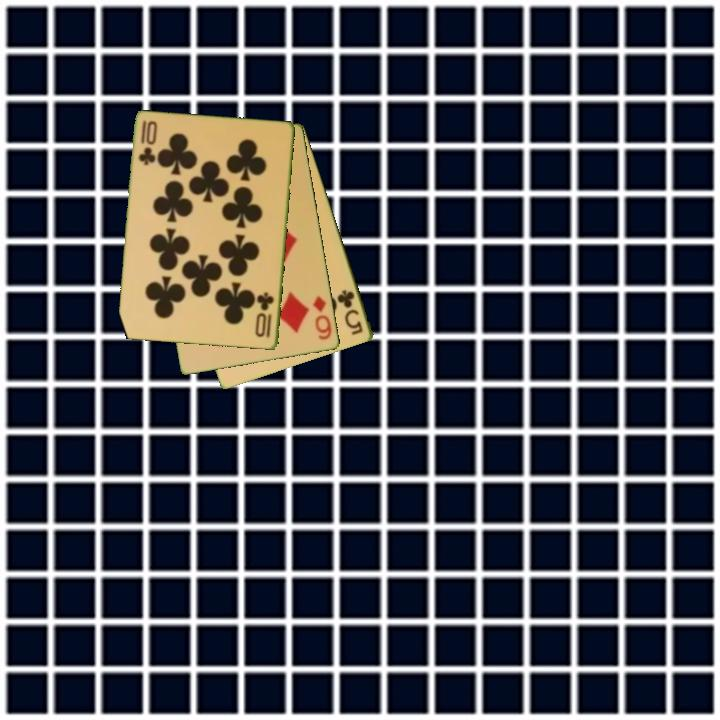10c: (253, 289, 277, 341), (135, 117, 157, 168)
5c: (334, 286, 366, 338)
6d: (310, 292, 335, 343)
